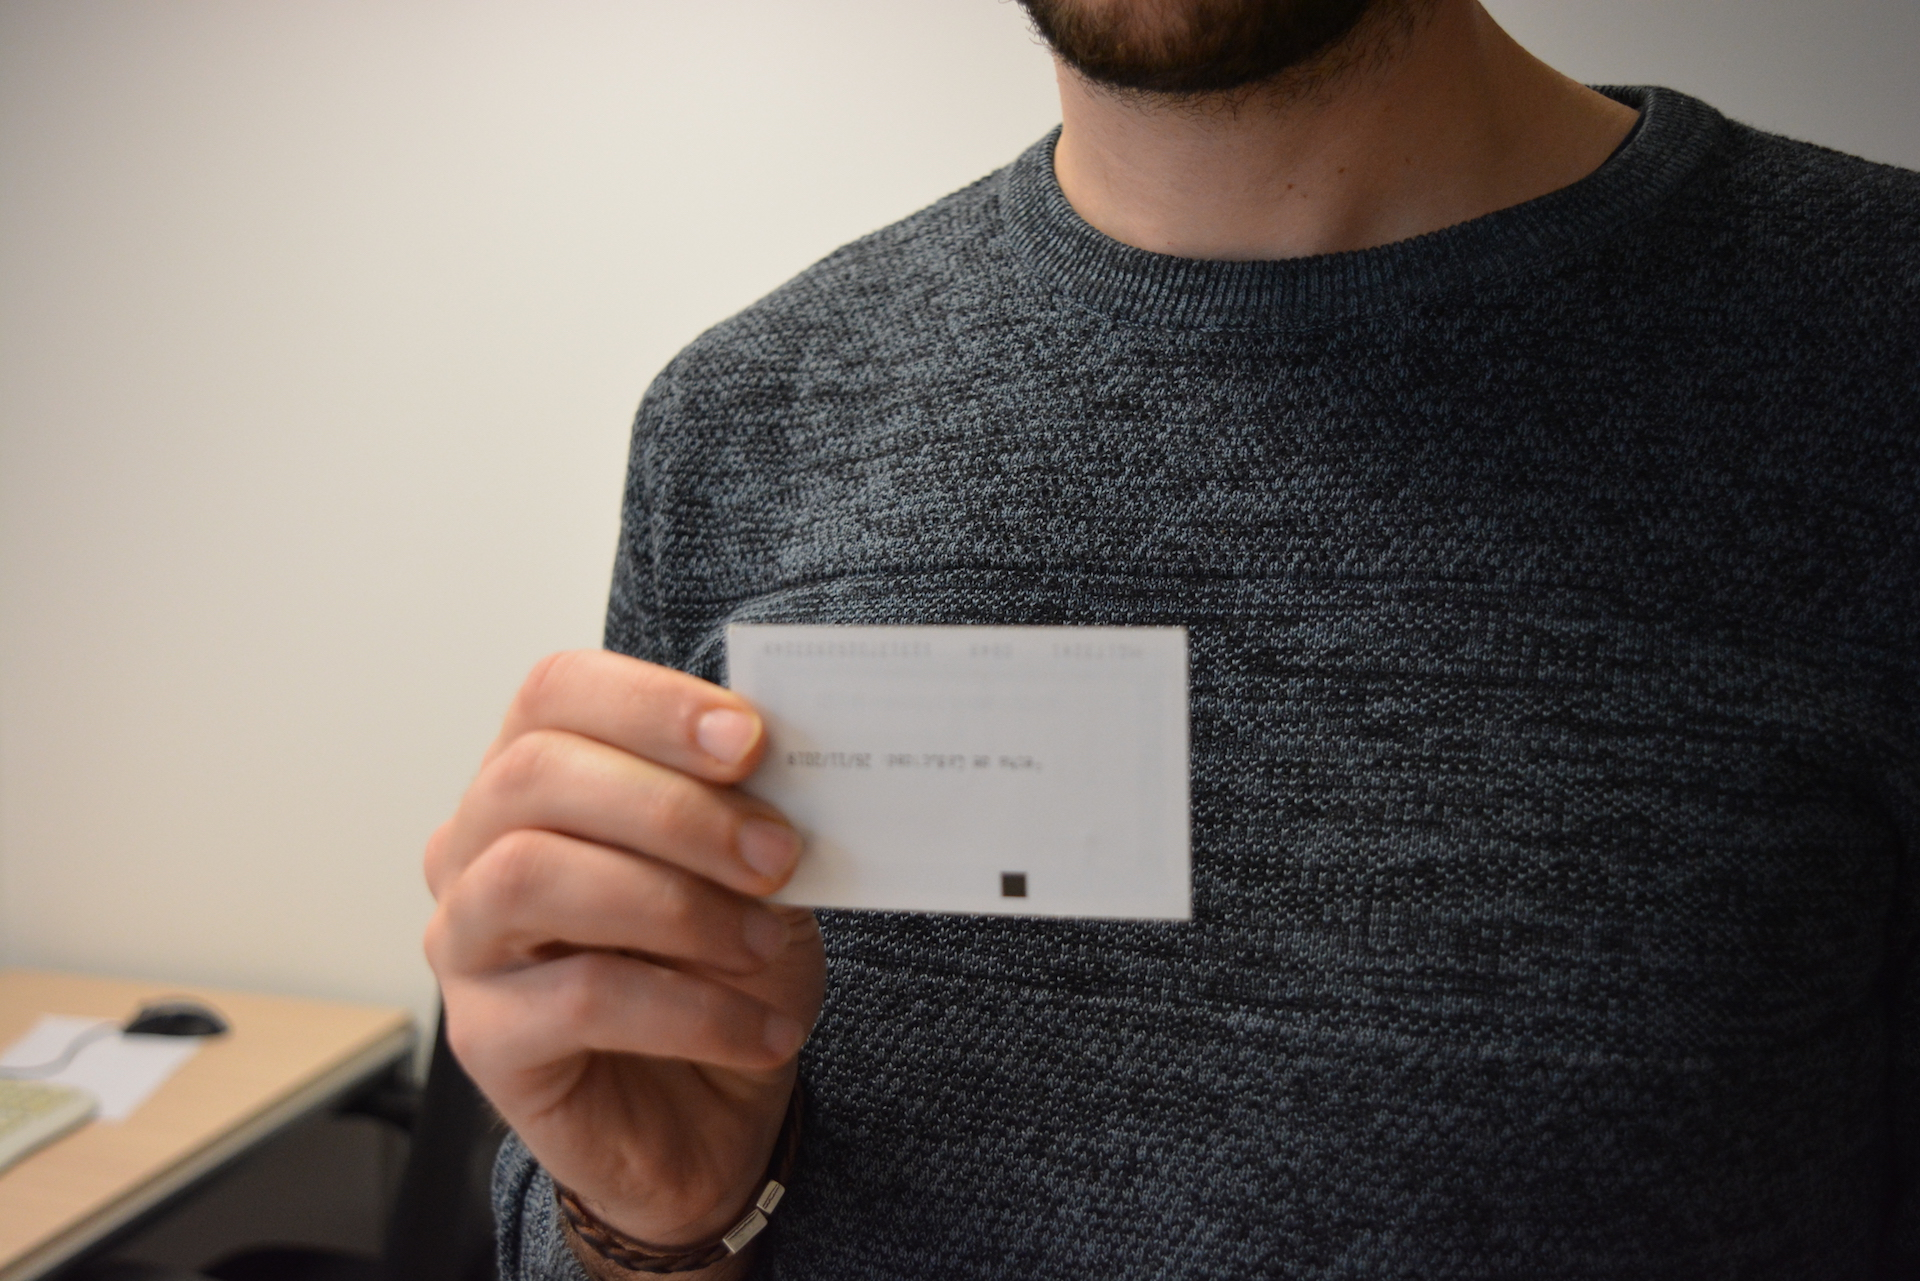tarjeta: (721, 618, 1199, 924)
